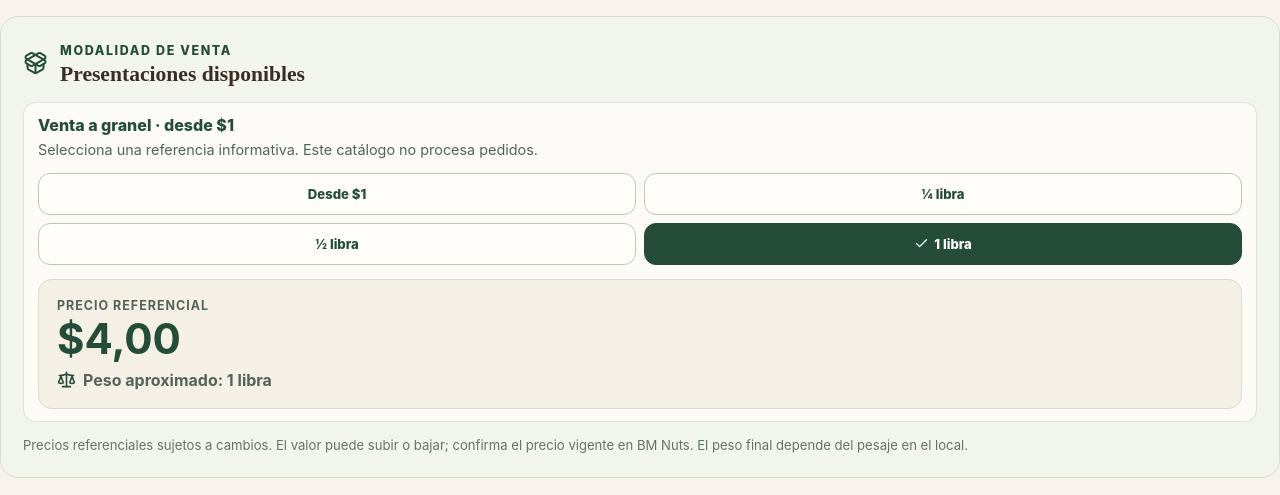
Test: correcciones finales de granel, filtros e imágenes › aplica el mínimo de $1 a un precio expresamente aprobado y mantiene el selector funcional
Click the button "½ libra" at (337, 244), box [38,223,636,265]
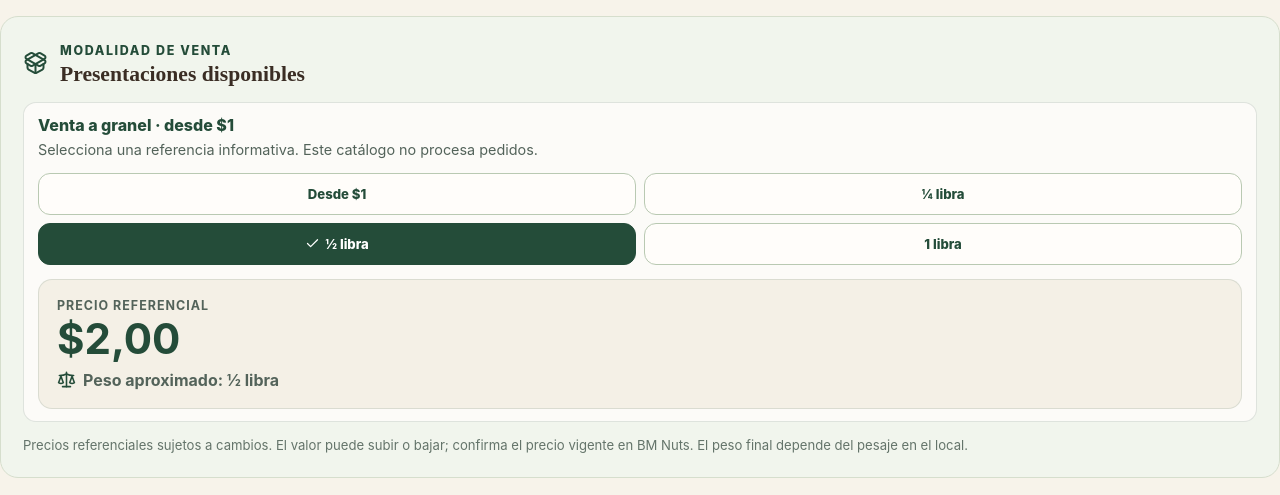
Expected: the text "$2,00" is shown, [57,313,180,364]
Expected: the text "Peso aproximado: ½ libra" is shown, [57,370,279,390]
